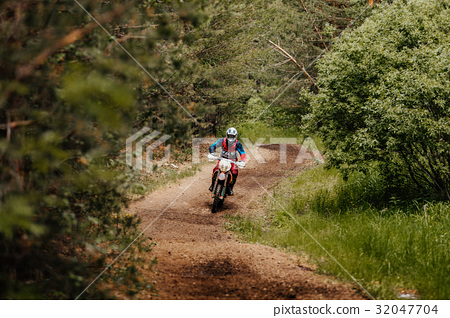helmet: (225, 122, 236, 142)
